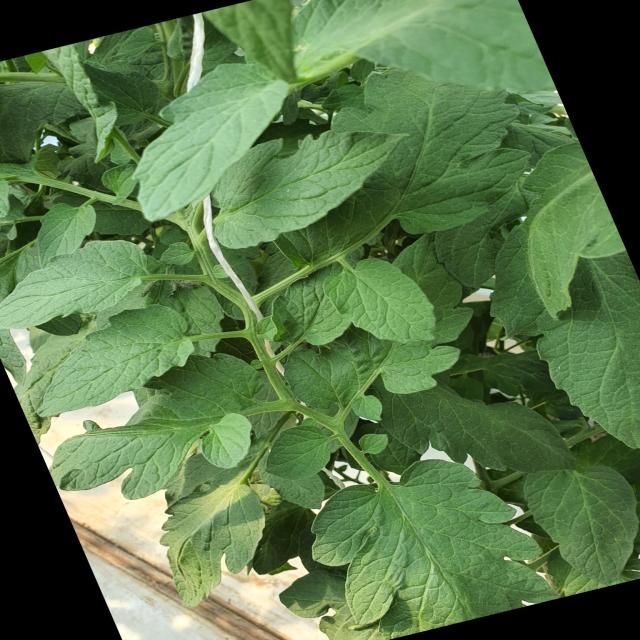Healthy Leaf: (317, 460, 554, 634), (197, 100, 413, 258), (116, 54, 290, 223), (52, 377, 246, 510), (30, 288, 199, 429), (136, 474, 288, 610), (3, 238, 168, 341), (531, 436, 640, 586), (328, 248, 438, 362)
